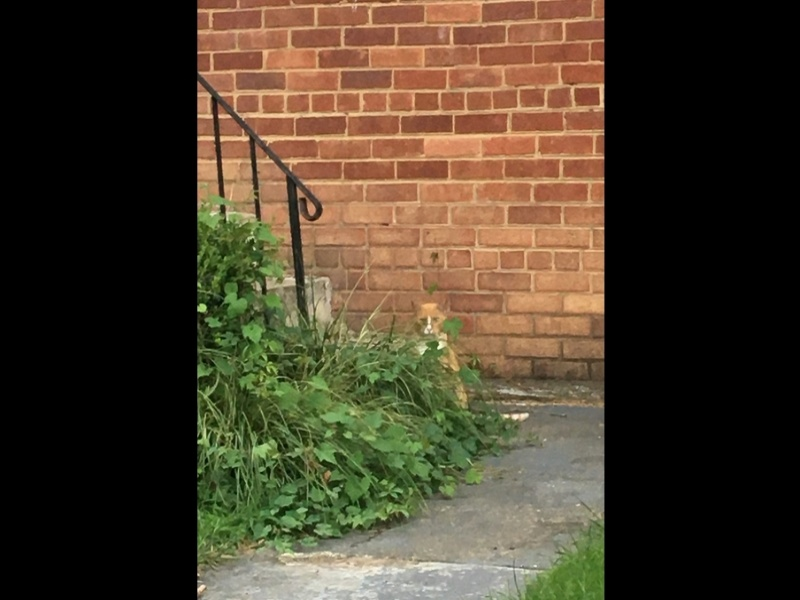cat: (389, 293, 475, 418)
